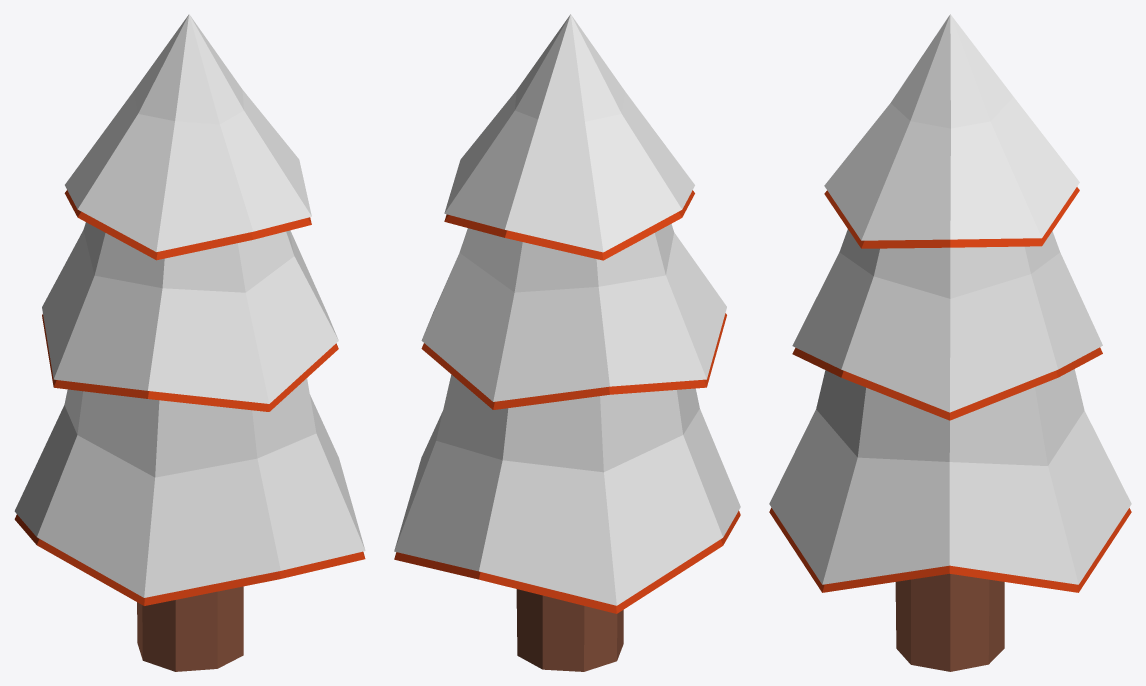
Rendered from Tree_01_winter_red.fbx.
3 renders of one model, left to right at view 1: azimuth 30°, elevation 25°; view 2: azimuth 150°, elevation 25°; view 3: azimuth 270°, elevation 25°, orthographic.
Visible parts, largest first — view 1: Tree_01_winter_red; view 2: Tree_01_winter_red; view 3: Tree_01_winter_red.
Part boxes in pixels (box(x1,y1,x2,y2)): Tree_01_winter_red: box(14, 14, 365, 671); Tree_01_winter_red: box(394, 14, 740, 671); Tree_01_winter_red: box(769, 14, 1131, 671).
Size of the model in its own units: 83.22 by 167 by 86.78.
